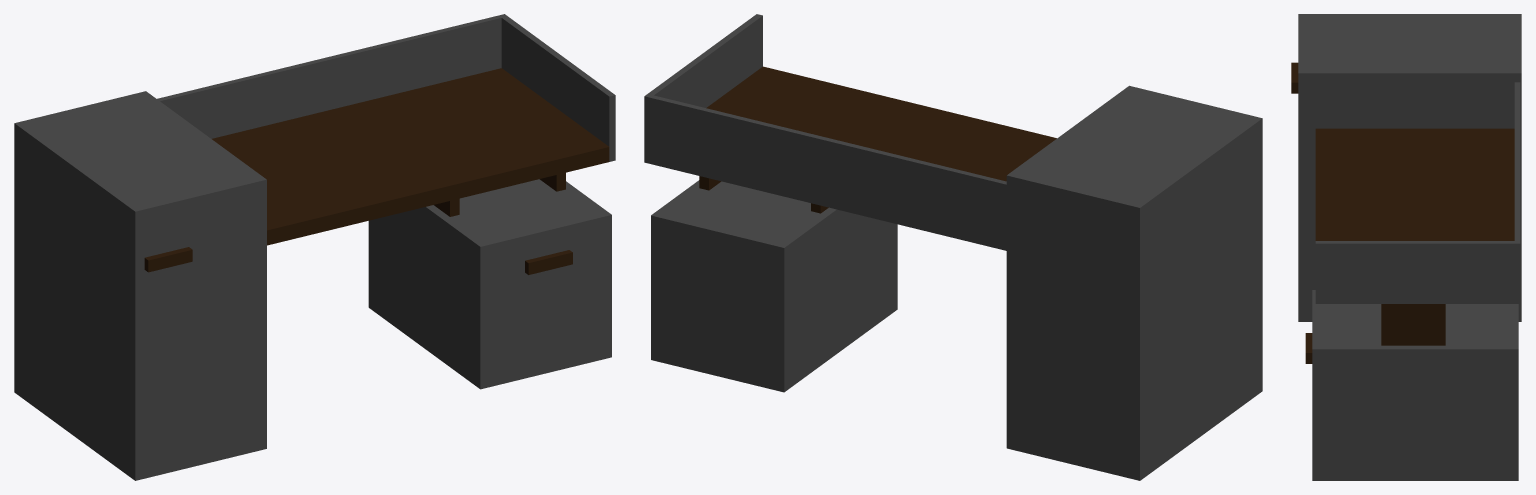
Rendered from table_work.FBX.
The picture shows the model from 3 angles, left to right: view 1: azimuth 30°, elevation 25°; view 2: azimuth 150°, elevation 25°; view 3: azimuth 270°, elevation 25°; orthographic projection. The views are drawn at different scales.
Parts seen in each view (by area): view 1: Box088, Plane003, Box091, Box092, Box093; view 2: Box088, Plane003, Box091; view 3: Plane003, Box091, Box088, Box090.
Boxes of the visible parts, x1,y1,x2,y2 form: Box088: [14, 91, 266, 480]; Plane003: [157, 14, 615, 245]; Box091: [368, 179, 611, 389]; Box092: [144, 247, 192, 272]; Box093: [525, 250, 572, 274]; Box088: [1006, 85, 1262, 480]; Plane003: [644, 14, 1056, 250]; Box091: [651, 180, 897, 392]; Plane003: [1315, 82, 1520, 303]; Box091: [1312, 290, 1518, 480]; Box088: [1298, 14, 1521, 321]; Box090: [1381, 304, 1445, 345].
Size of the model in its own units: 2 by 1.05 by 0.8818.
